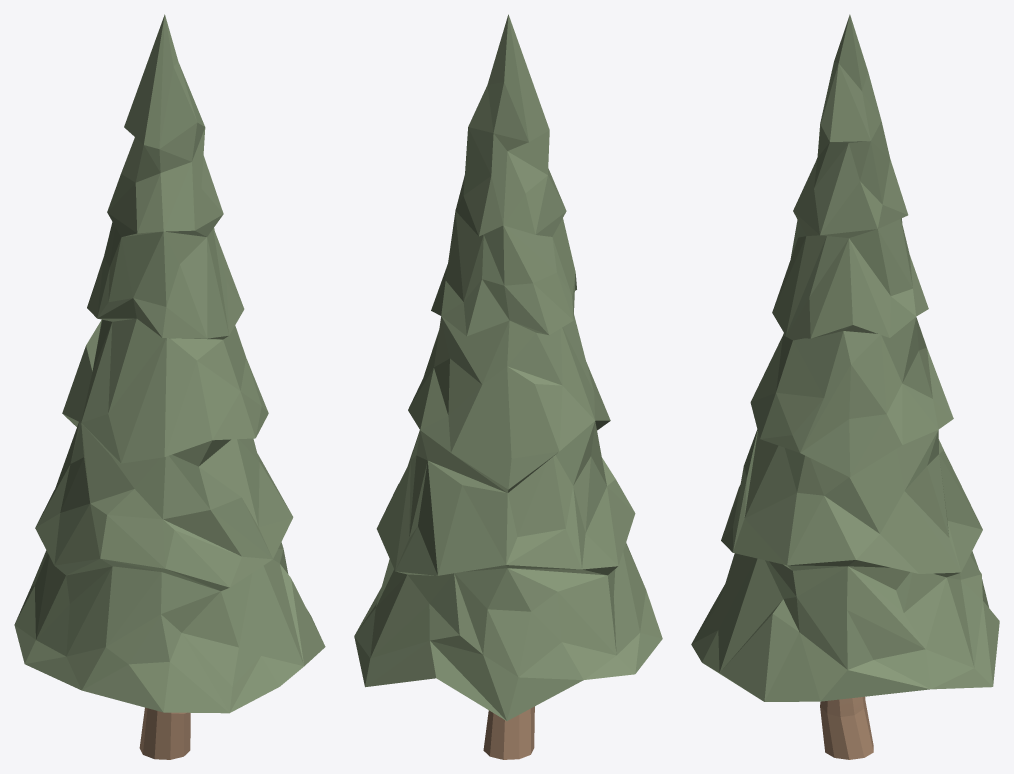
The model's file is Pine_Tree_6.fbx.
The picture shows the model from 3 angles, left to right: view 1: azimuth 30°, elevation 25°; view 2: azimuth 150°, elevation 25°; view 3: azimuth 270°, elevation 25°; orthographic projection.
Visible parts, largest first — view 1: Pine_Tree_6; view 2: Pine_Tree_6; view 3: Pine_Tree_6.
Boxes of the visible parts, x1,y1,x2,y2 form: Pine_Tree_6: [14, 14, 325, 759]; Pine_Tree_6: [354, 14, 662, 759]; Pine_Tree_6: [691, 14, 999, 759].
Bounding box in the file's own units: 2.02 × 5.35 × 2.03.
